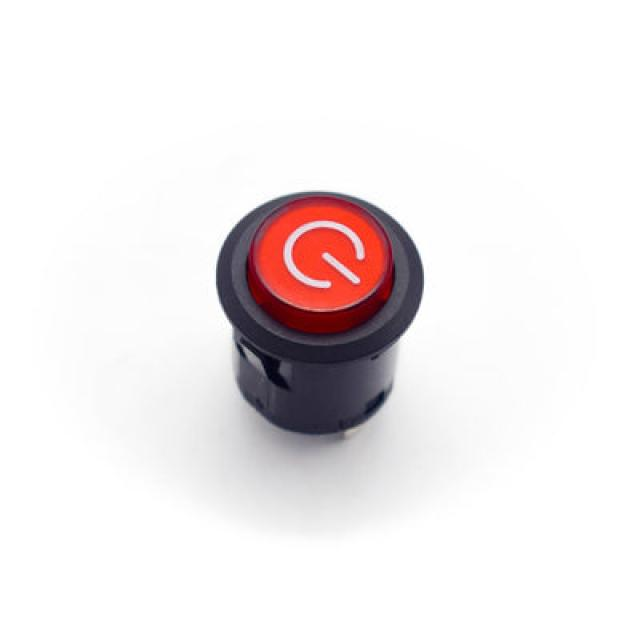Push button: (180, 175, 436, 449)
